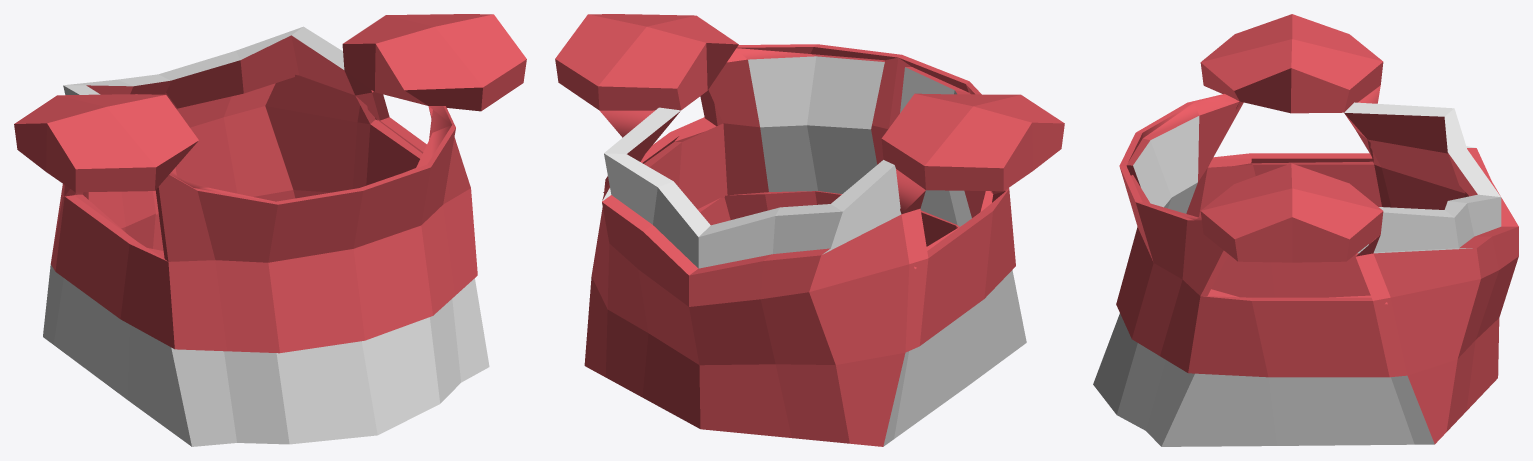
The model's file is FootballArmor.gltf.
The picture shows the model from 3 angles, left to right: view 1: azimuth 30°, elevation 25°; view 2: azimuth 150°, elevation 25°; view 3: azimuth 270°, elevation 25°; orthographic projection. The views are drawn at different scales.
Parts seen in each view (by area): view 1: AMERICAN FOOTBALL ARMOR; view 2: AMERICAN FOOTBALL ARMOR; view 3: AMERICAN FOOTBALL ARMOR.
Part boxes in pixels (x1,y1,x2,y2): AMERICAN FOOTBALL ARMOR: [14, 14, 526, 446]; AMERICAN FOOTBALL ARMOR: [555, 14, 1064, 446]; AMERICAN FOOTBALL ARMOR: [1093, 14, 1518, 446].
Size of the model in its own units: 0.5586 by 0.3464 by 0.4901.
1 material, 1 textured.
